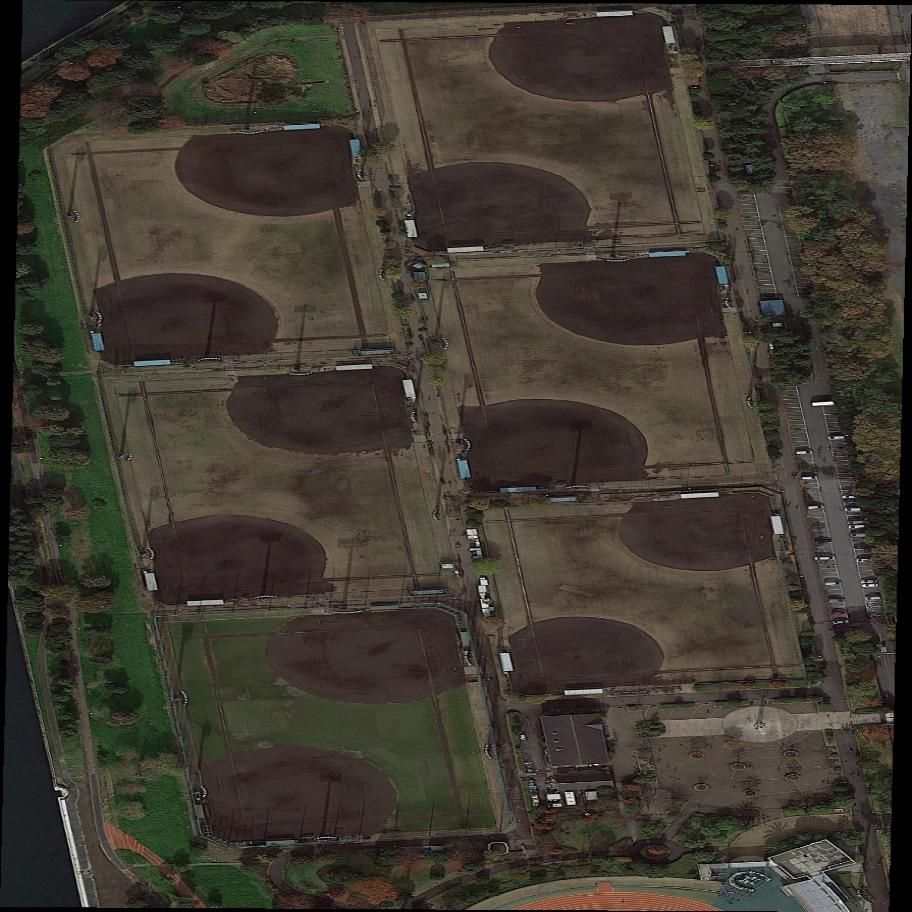small-vehicle: (850, 531, 869, 538), (814, 556, 839, 560), (828, 435, 847, 440), (844, 507, 863, 512), (827, 597, 846, 602), (831, 619, 850, 624), (861, 579, 880, 584), (796, 449, 814, 454), (801, 475, 819, 480), (855, 544, 872, 549), (856, 558, 873, 563), (848, 519, 865, 524), (814, 539, 833, 543), (807, 505, 826, 509), (824, 581, 843, 585), (833, 611, 848, 616), (843, 495, 859, 499), (866, 596, 882, 600), (863, 584, 880, 587), (848, 525, 865, 528)
